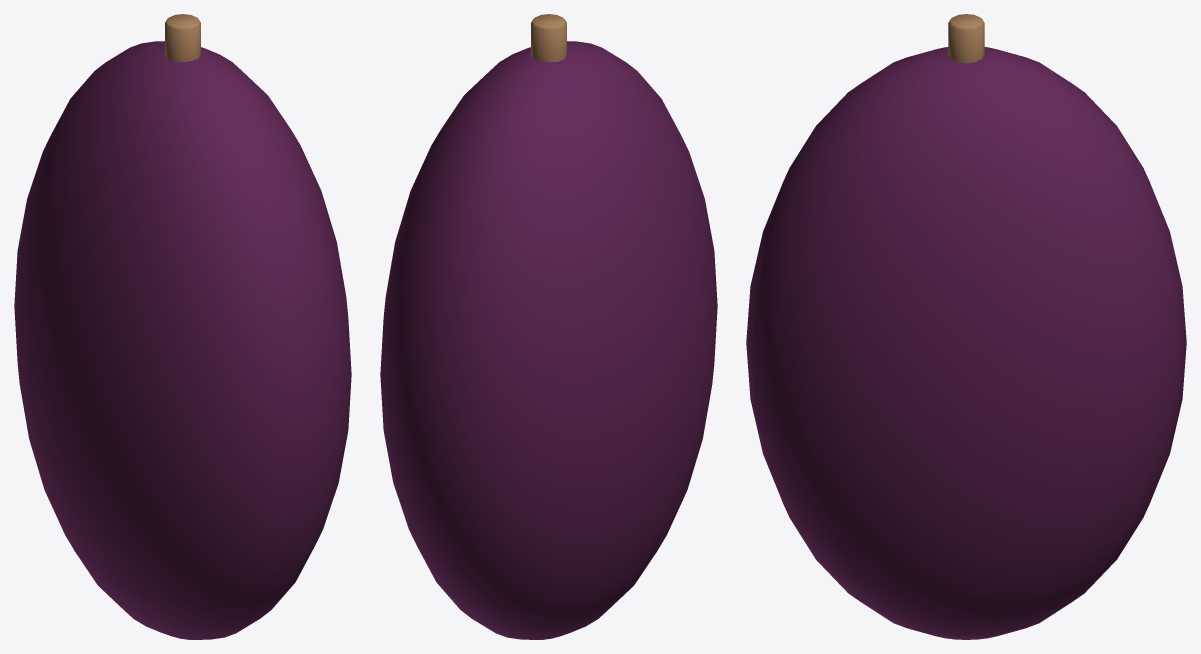
File: SM_EG_Fruit_eggplant_Stemmed_6230ff0689.fbx
3 renders of one model, left to right at view 1: azimuth 30°, elevation 25°; view 2: azimuth 150°, elevation 25°; view 3: azimuth 270°, elevation 25°, orthographic.
Parts seen in each view (by area): view 1: SM_EG_Fruit_eggplant_Stemmed_6230ff0689; view 2: SM_EG_Fruit_eggplant_Stemmed_6230ff0689; view 3: SM_EG_Fruit_eggplant_Stemmed_6230ff0689.
Part boxes in pixels (left/top/right/bottom): SM_EG_Fruit_eggplant_Stemmed_6230ff0689: left=14, top=14, right=351, bottom=639; SM_EG_Fruit_eggplant_Stemmed_6230ff0689: left=380, top=14, right=717, bottom=639; SM_EG_Fruit_eggplant_Stemmed_6230ff0689: left=746, top=14, right=1186, bottom=639.
Size of what is drawn, in the model's own units: 15 by 22 by 33.75.
